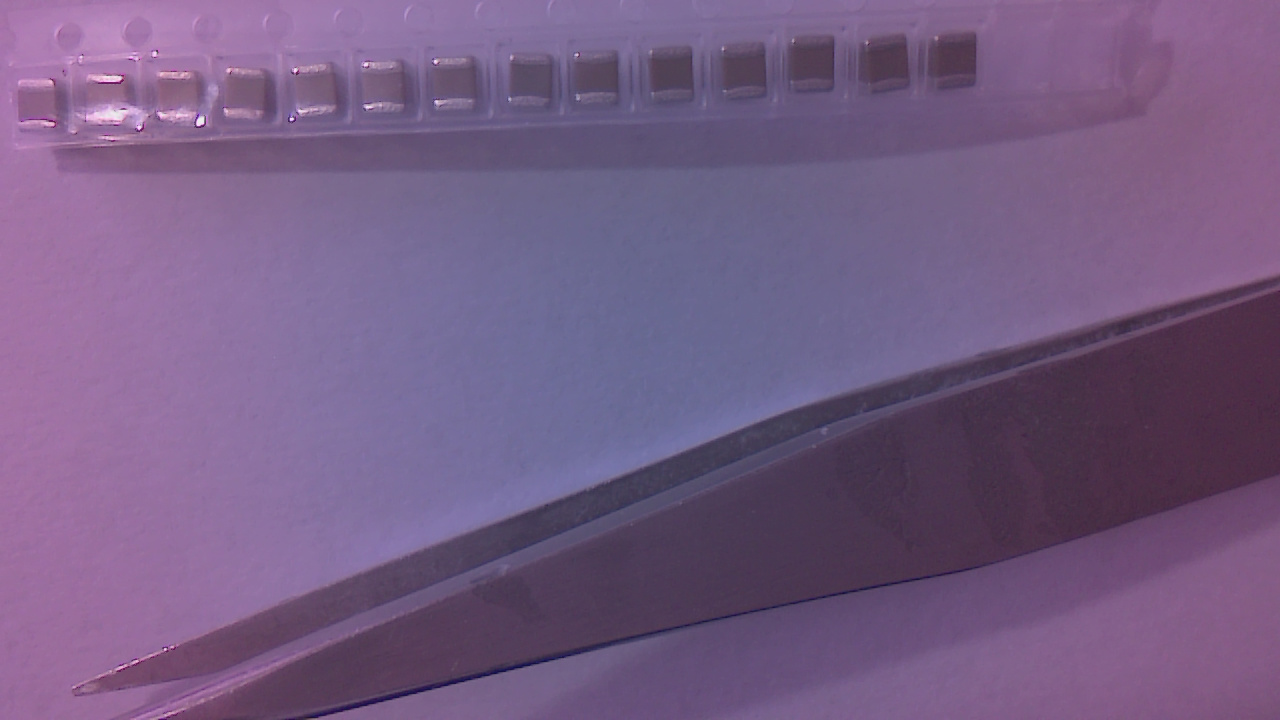Condensator: (159, 73, 211, 133), (868, 37, 917, 100), (936, 37, 987, 95), (791, 38, 841, 97), (723, 47, 774, 104), (296, 65, 344, 125), (577, 54, 625, 113), (651, 50, 700, 107), (511, 58, 559, 115), (437, 60, 485, 117), (227, 67, 273, 125), (89, 76, 135, 133), (21, 81, 67, 137), (366, 64, 411, 119)
